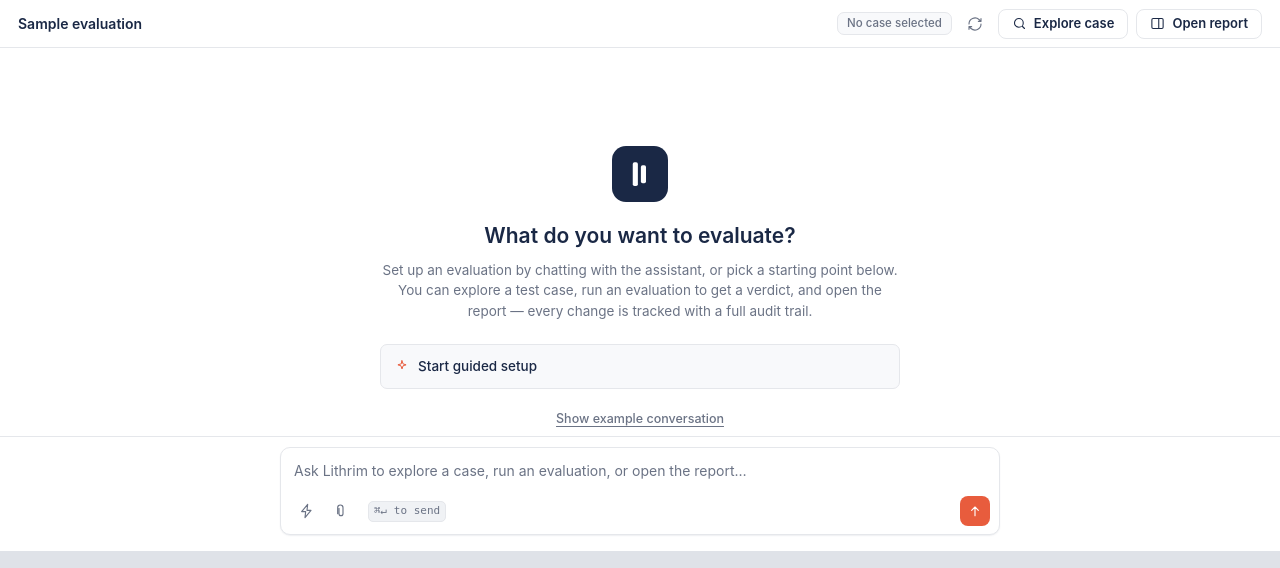
Test: CenterPane — PERSIST-CONV: durable conversation persistence › A7: persists the settled thread via putConversation after a turn
Replace the text in the text box with placeholder "Ask Lithrim" with "author a risk judge" at (640, 467), box x1=281 y1=448 x2=999 y2=485
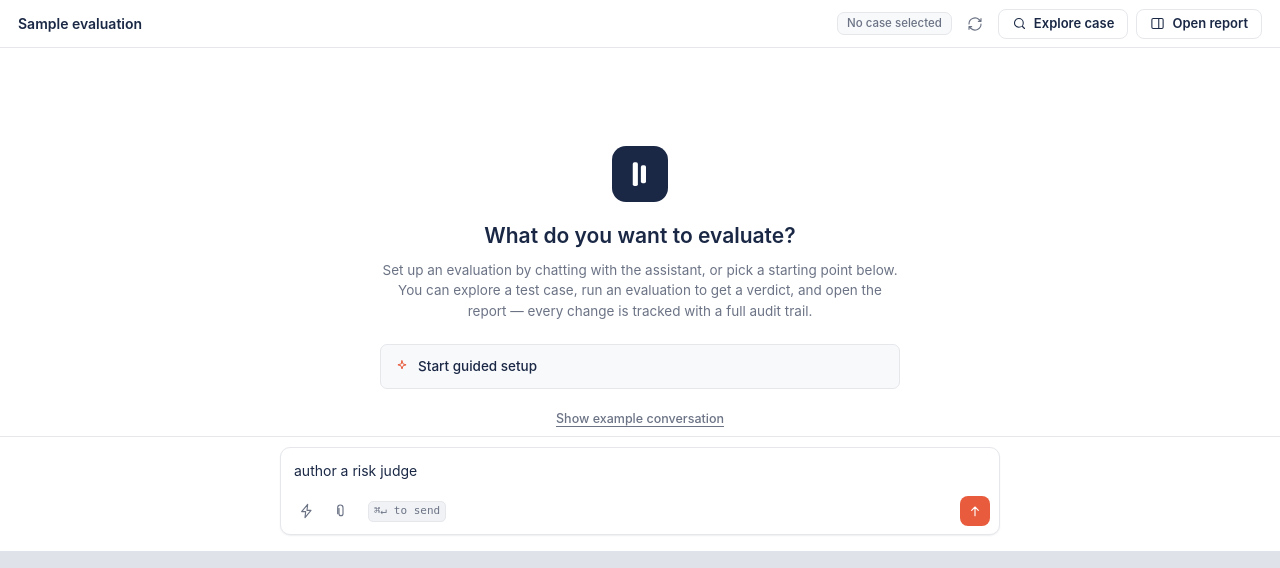
Click the button with test id "chat-send" at (975, 511), box x1=960 y1=496 x2=990 y2=526
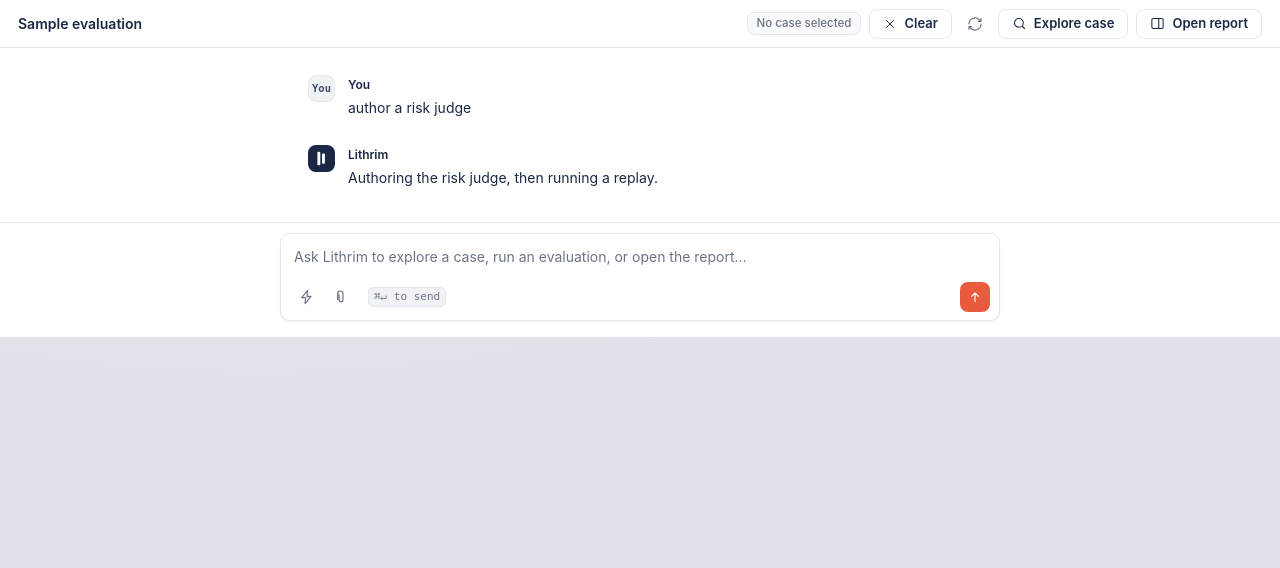
Result: the text "Authoring the risk judge, then running a replay." is shown at x1=348 y1=169 x2=658 y2=186
